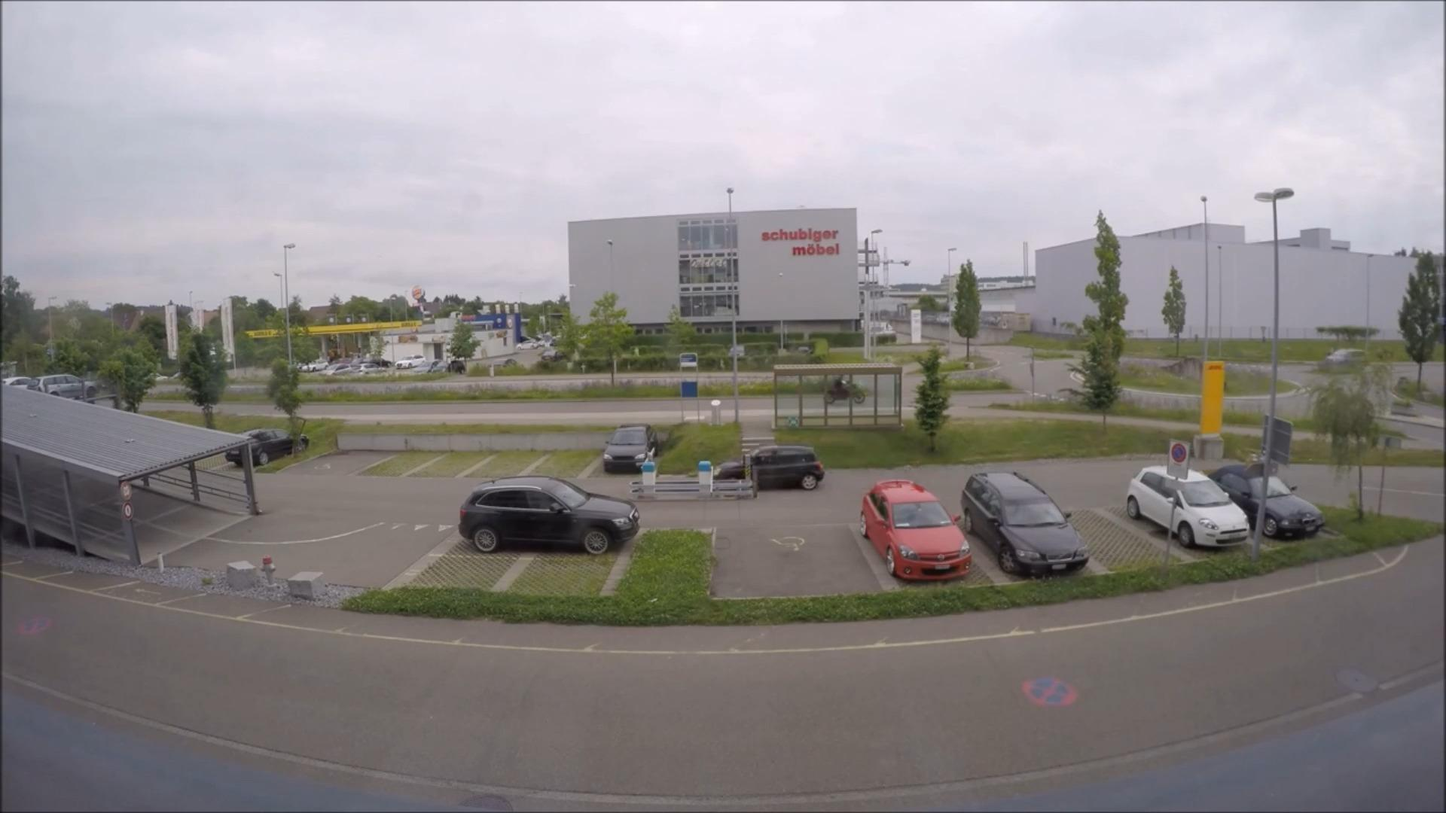free: (496, 453, 520, 477), (390, 439, 412, 465), (556, 451, 582, 470), (447, 449, 463, 466)
occupied: (456, 475, 641, 556), (963, 469, 1093, 577), (1124, 464, 1249, 549), (870, 479, 976, 579), (1203, 464, 1321, 539), (712, 445, 821, 493), (223, 428, 308, 467), (601, 424, 659, 473), (31, 373, 92, 400), (1322, 348, 1366, 365), (396, 354, 429, 369), (357, 359, 394, 372), (325, 362, 358, 375), (297, 360, 328, 373), (3, 376, 34, 388)
